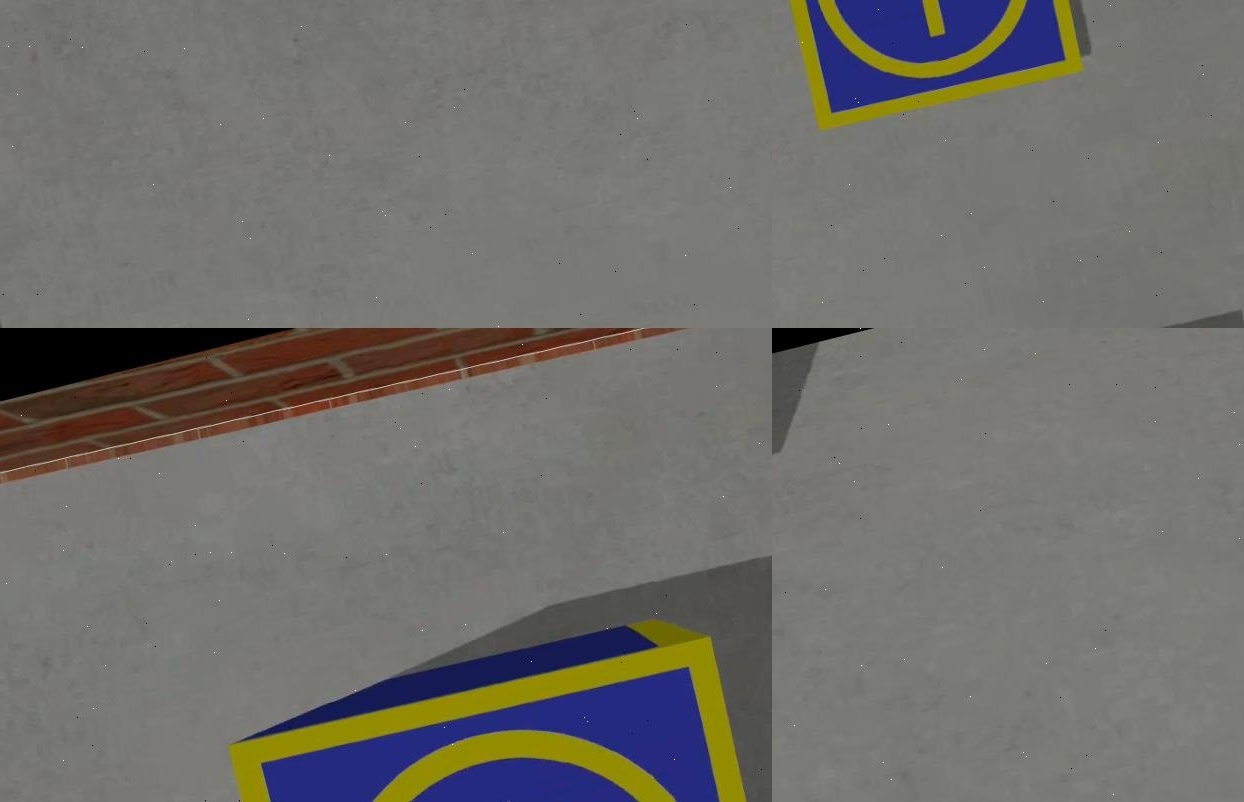small_base: (228, 621, 771, 802), (771, 1, 1094, 137)
